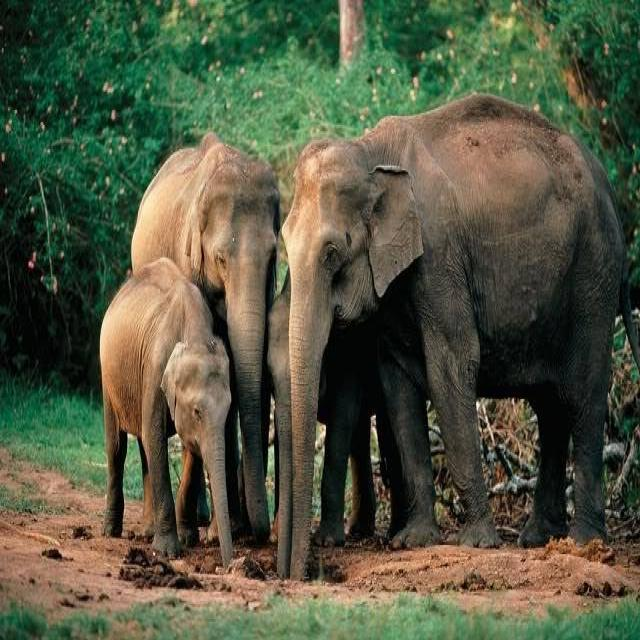Elephant: (282, 96, 625, 600), (132, 127, 277, 556), (99, 260, 236, 562)
